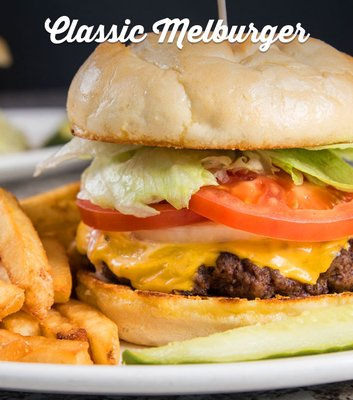soup: (21, 32, 353, 327)
